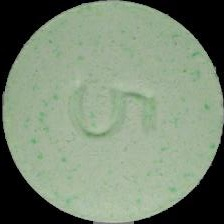63739-119: (0, 0, 224, 224)
